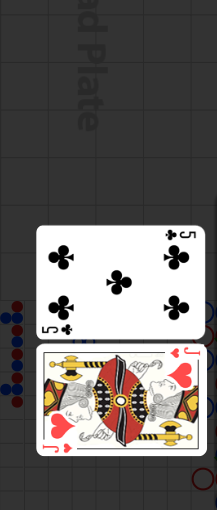5C: (41, 322, 75, 336)
5H: (169, 346, 201, 359)
